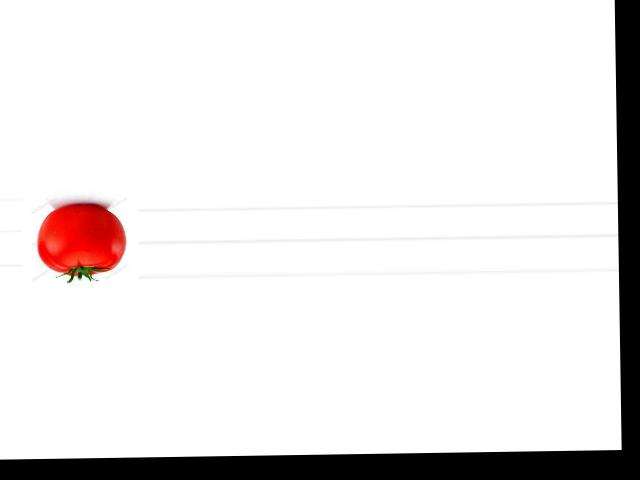tomato: (36, 205, 126, 275)
